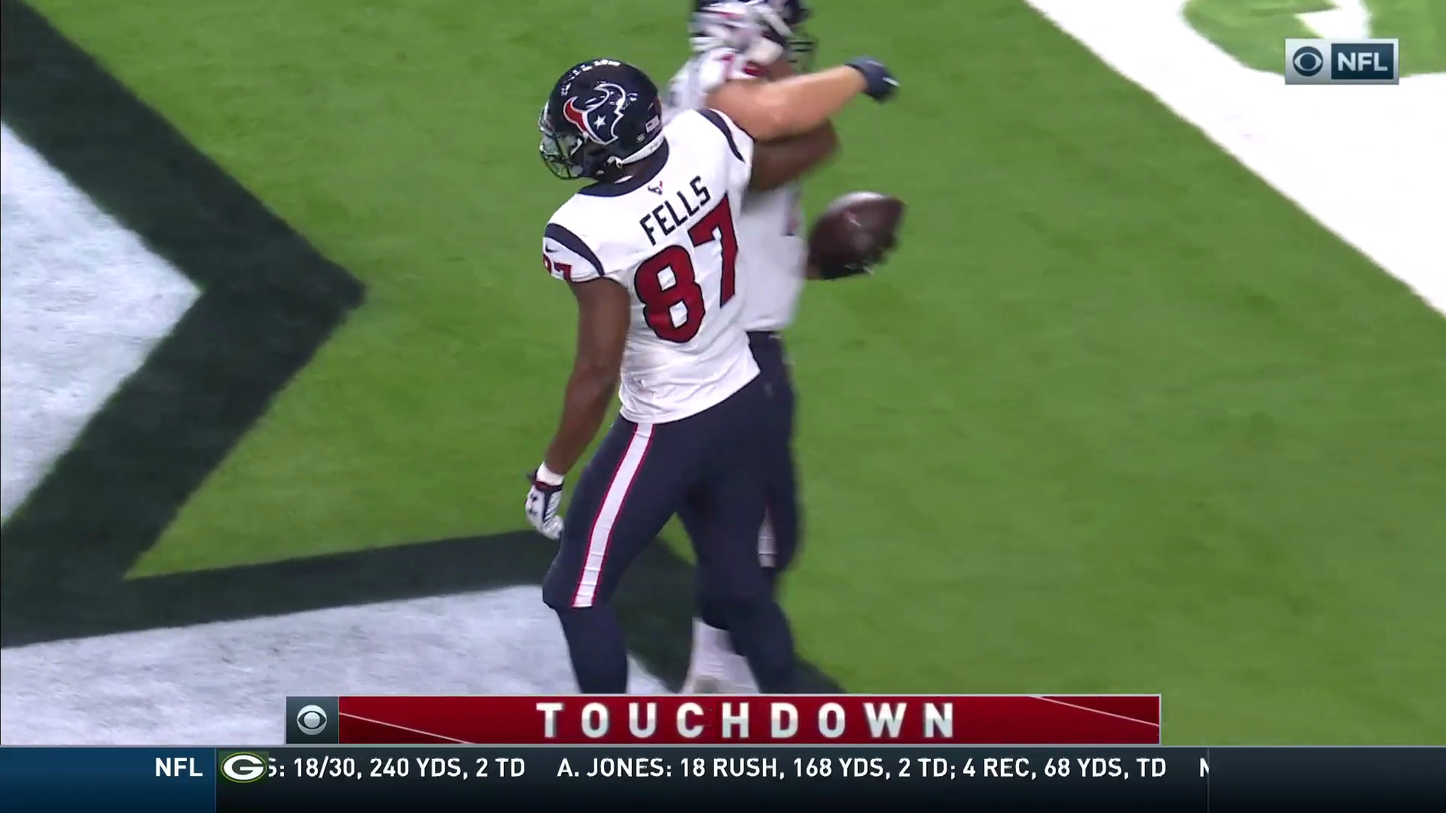Player: (481, 45, 915, 572)
